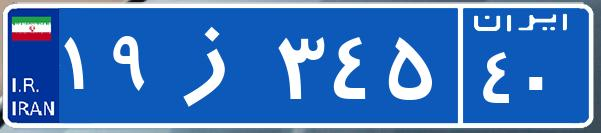0: (525, 38, 570, 115)
1: (57, 26, 110, 107)
3: (273, 28, 330, 110)
4: (330, 28, 385, 110), (475, 38, 525, 113)
5: (385, 28, 445, 110)
9: (110, 28, 158, 105)
ز: (158, 15, 273, 115)
